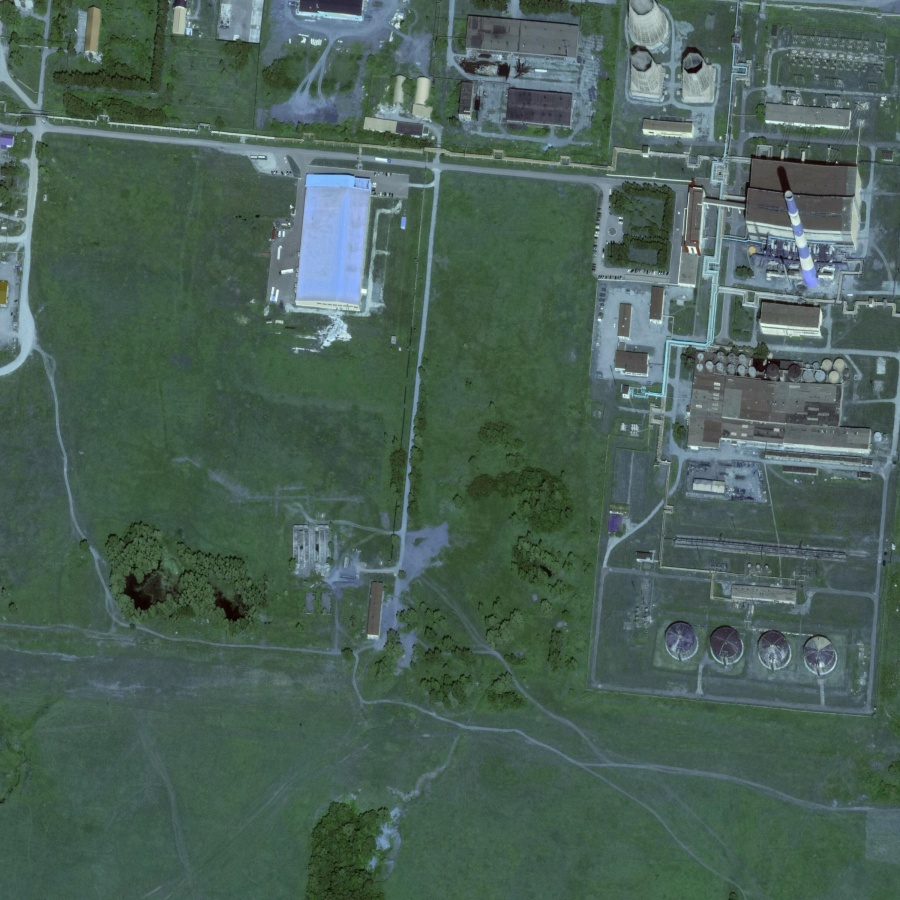PowerPlant: (658, 570, 868, 736)
